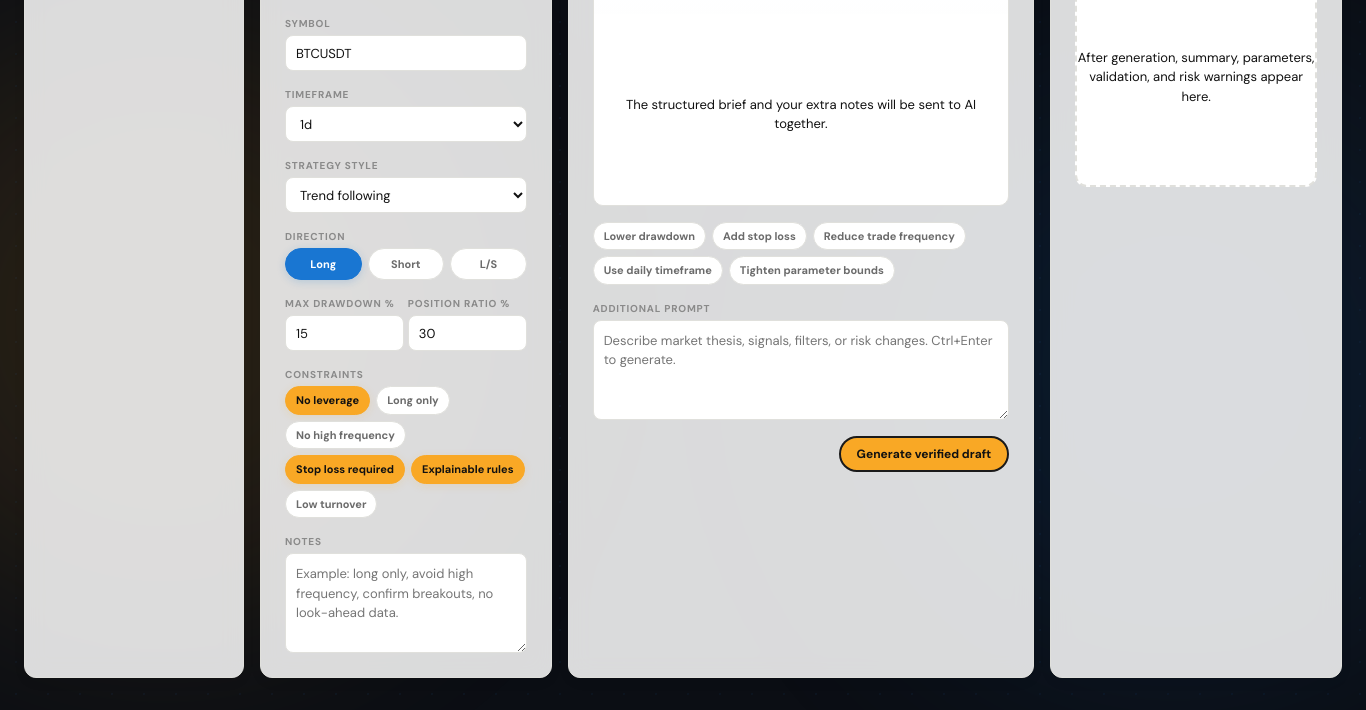
Test: AiStrategyLabView › blocks adoption while QSGA backtest and risk audit are not complete
The image size is (1366, 710).
(page scrolled)
Replace the text in the text box with test id "ai-lab-prompt" with "Build a BTC trend strategy" at [801, 370], box [593,320,1009,420]
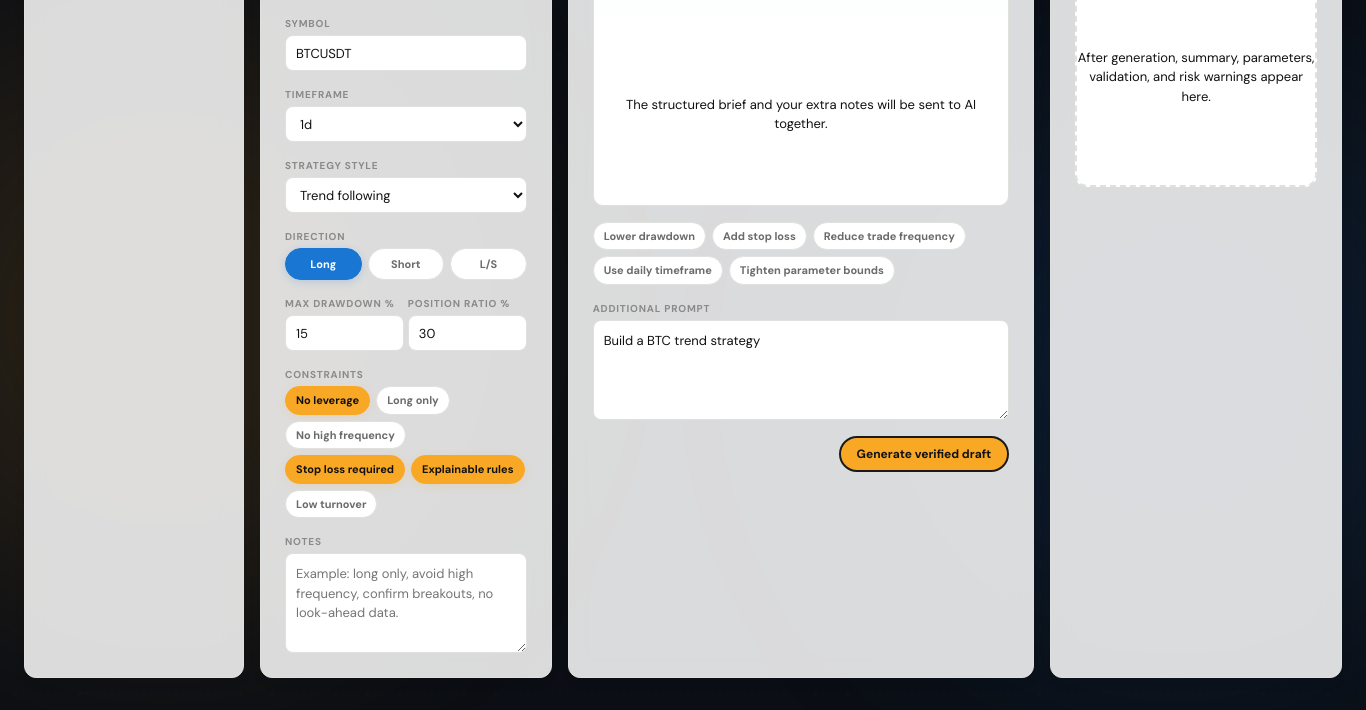
Click the button with test id "ai-lab-generate" at [924, 454], box [839,436,1009,472]
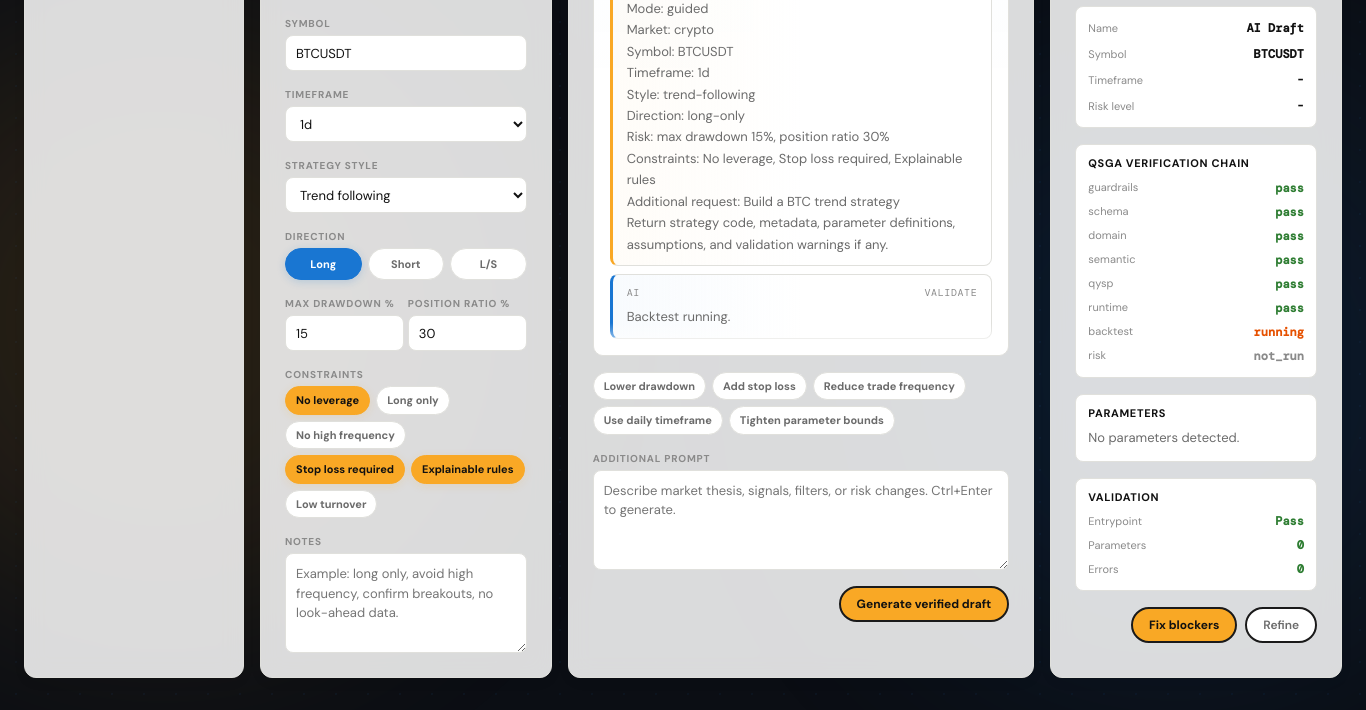
Now the button with test id "ai-lab-adopt" is disabled, box [1131,607,1237,643]
